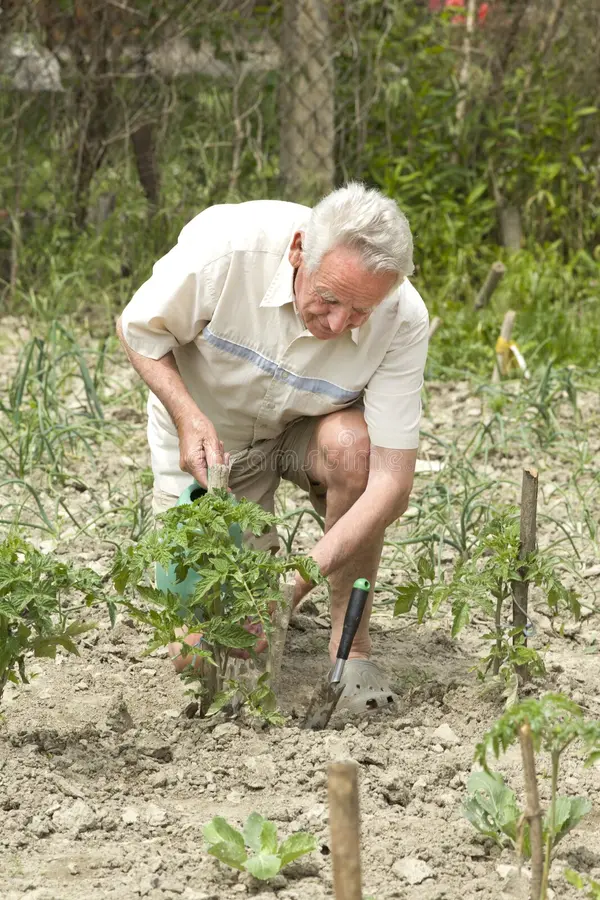person: (101, 170, 463, 722)
